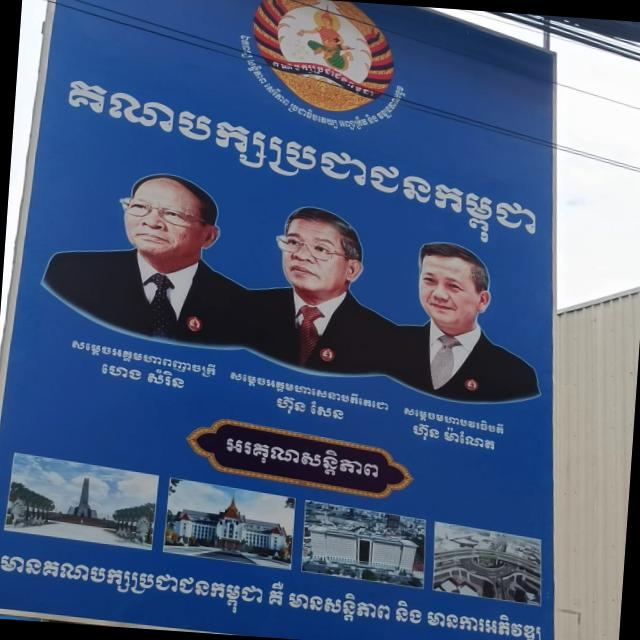1: (404, 417, 498, 458), (92, 354, 189, 391), (266, 390, 353, 425)
4: (0, 541, 546, 640)
Yolov11_80vkh: (60, 72, 543, 260), (222, 426, 383, 486), (68, 333, 222, 384), (225, 366, 392, 413), (401, 402, 507, 439)
